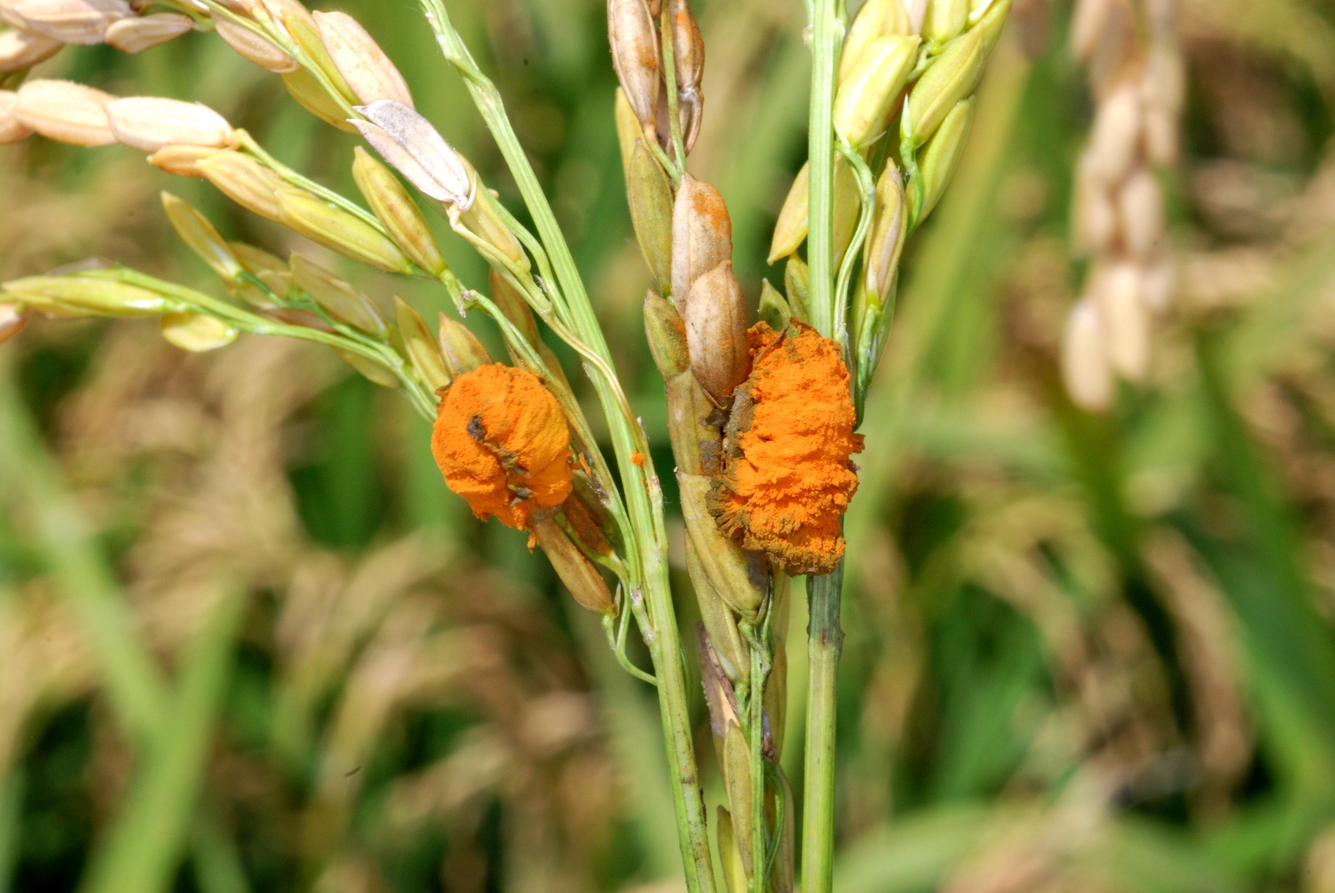False Smut: (458, 473, 850, 595), (530, 295, 803, 394)
